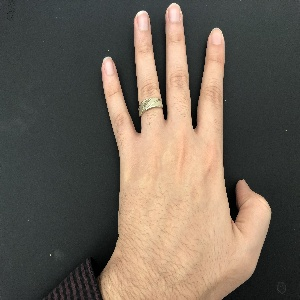hand: (102, 4, 272, 268)
